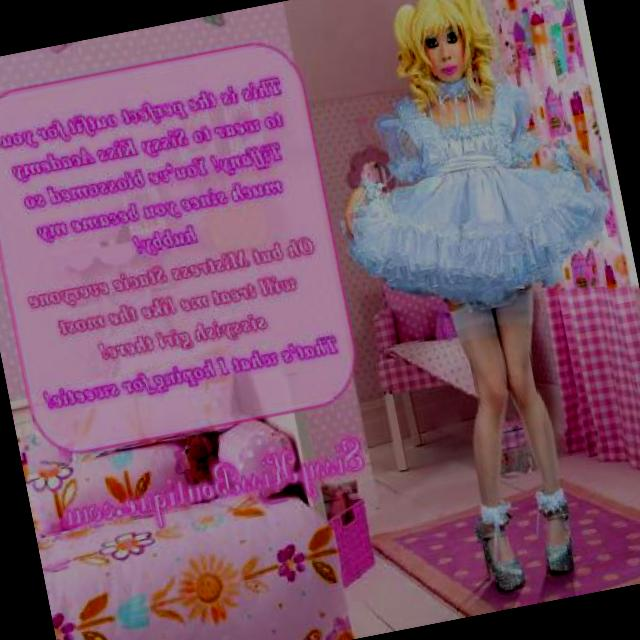Person: (293, 0, 640, 596)
